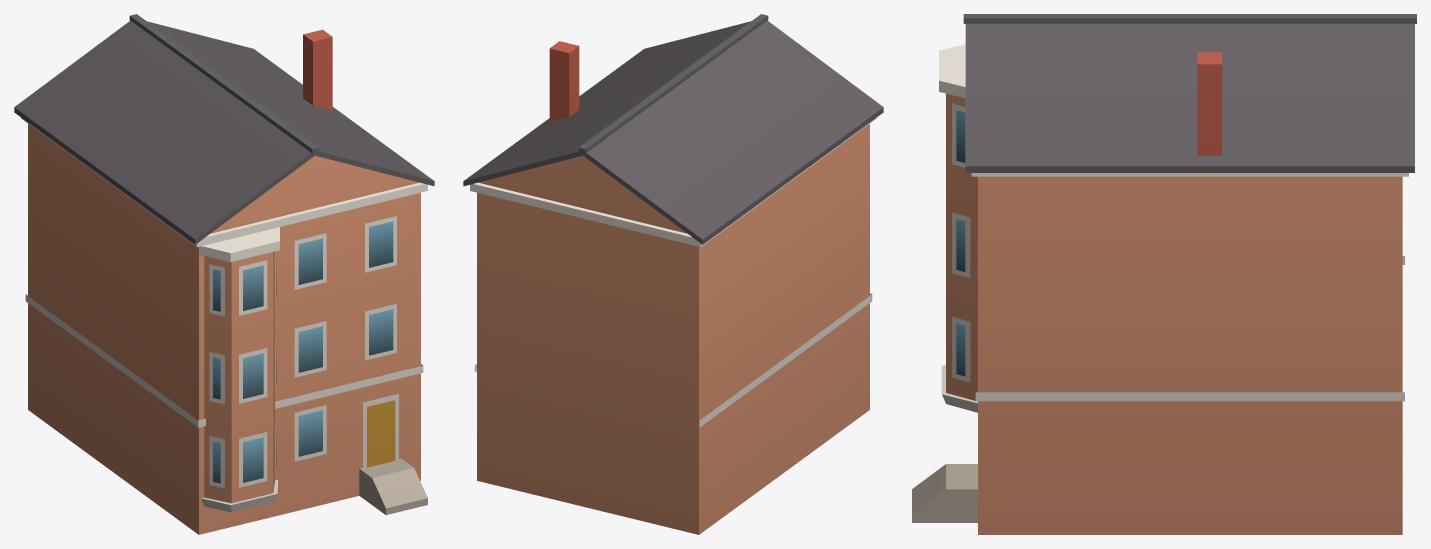
The model's file is lane_w2_far.glb.
3 renders of one model, left to right at view 1: azimuth 30°, elevation 25°; view 2: azimuth 150°, elevation 25°; view 3: azimuth 270°, elevation 25°, orthographic. The views are drawn at different scales.
Visible parts, largest first — view 1: lane_w2_far; view 2: lane_w2_far; view 3: lane_w2_far.
Part boxes in pixels (x1=…): lane_w2_far: x1=14, y1=14, x2=434, y2=534; lane_w2_far: x1=463, y1=14, x2=883, y2=534; lane_w2_far: x1=912, y1=14, x2=1416, y2=534.
Bounding box in the file's own units: 9.7 × 14.68 × 14.26.
1 material, 1 textured.
